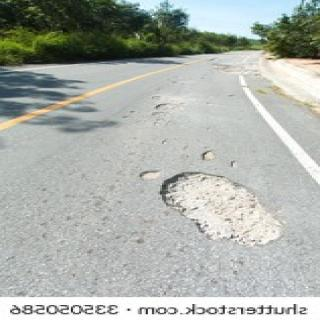pothole: (159, 172, 285, 247)
